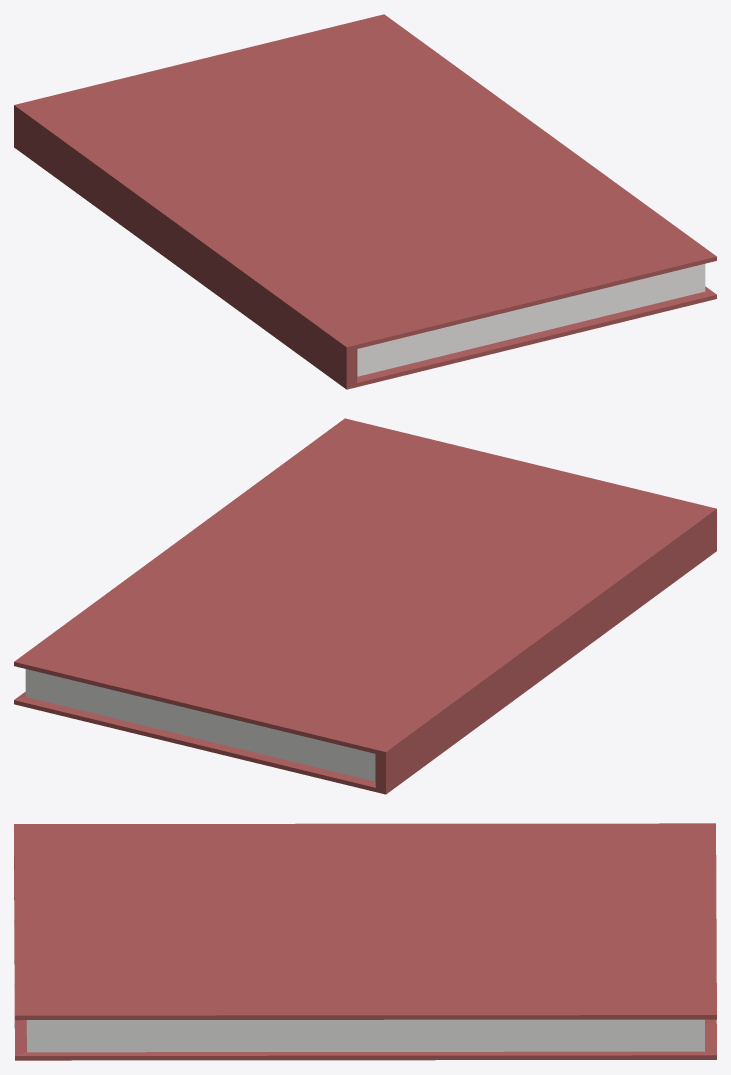
Rendered from Book_2.fbx.
3 views of the same model, one above another, from view 1: azimuth 30°, elevation 25°; view 2: azimuth 150°, elevation 25°; view 3: azimuth 270°, elevation 25° (orthographic). The views are drawn at different scales.
Visible parts, largest first — view 1: Book_2; view 2: Book_2; view 3: Book_2.
Part boxes in pixels (bbox=[...]): Book_2: bbox=[14, 14, 716, 389]; Book_2: bbox=[14, 418, 716, 794]; Book_2: bbox=[14, 823, 716, 1060].
Bounding box in the file's own units: 18.75 × 28.98 × 2.04.
